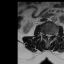CCS_normal: (47, 32, 49, 42)
LFS_severe_stenosis: (51, 32, 53, 38)
LLS_stenosis: (49, 33, 51, 38)
RFS_severe_stenosis: (43, 32, 45, 37)
RLS_stenosis: (46, 32, 47, 38)
